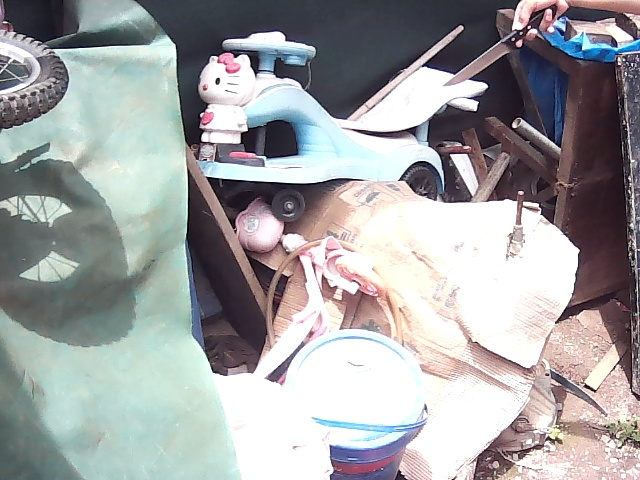cuchillo: (438, 22, 534, 90)
